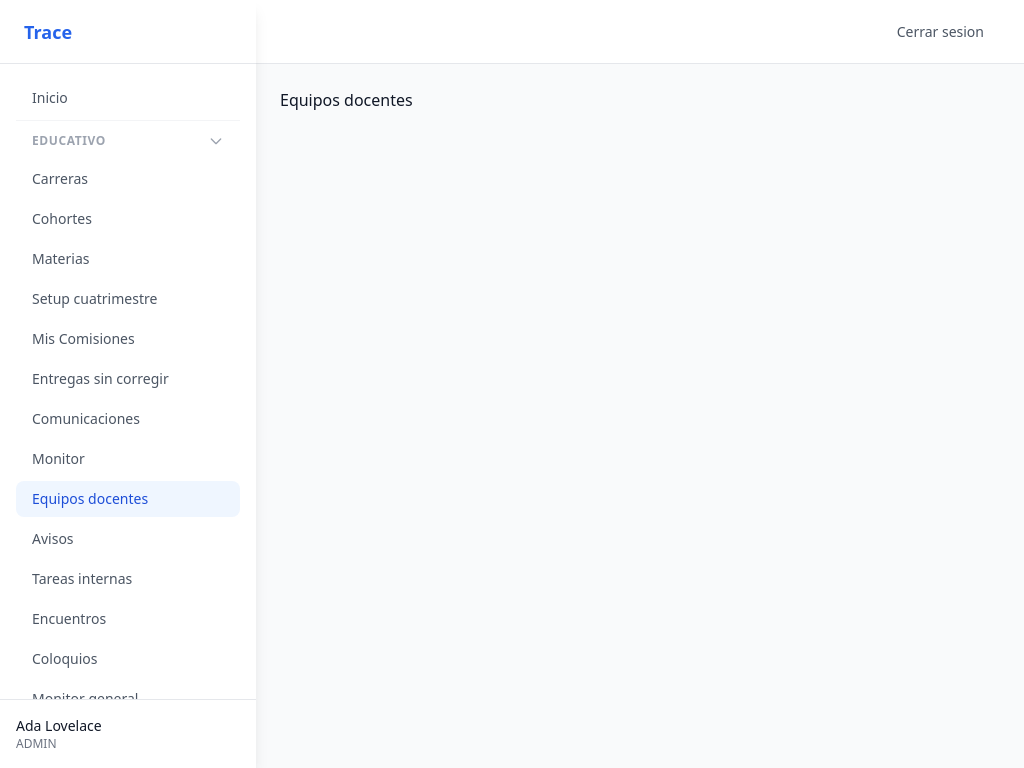
Test: SidebarPermissions › collapses one category without hiding the others
The image size is (1024, 768).
Expected: the link "Equipos docentes" is shown, [16,481,240,517]
Click the button "Educativo". click: {"x": 128, "y": 138}
box: [16,120,240,157]
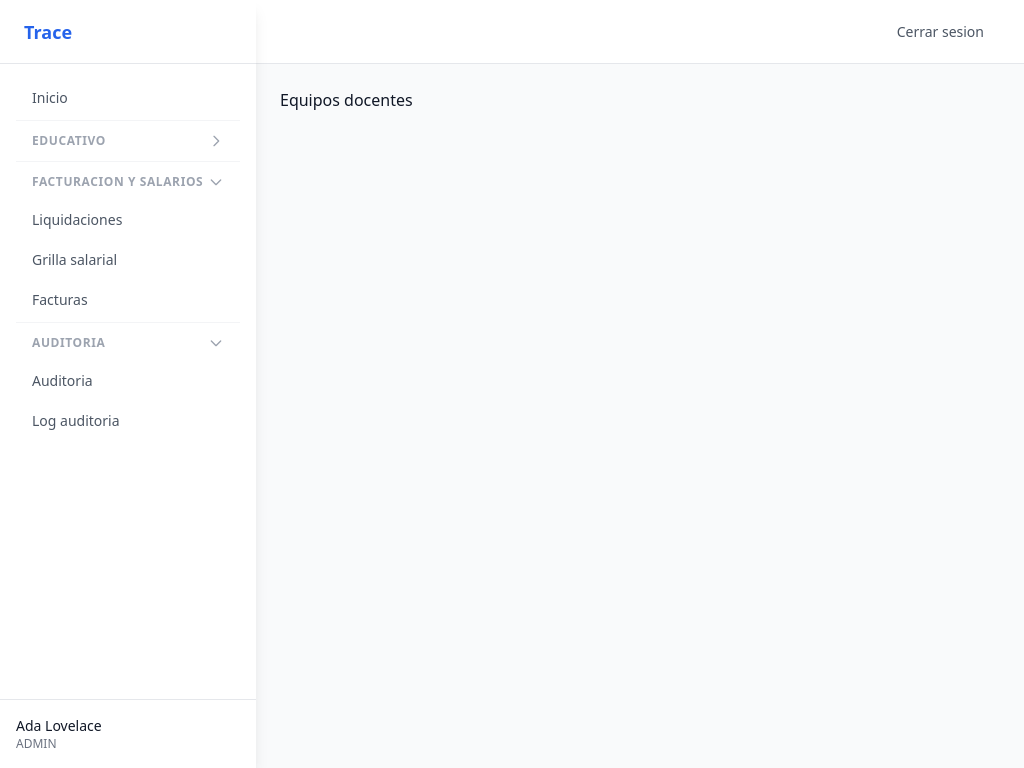
Now the button "Facturacion y salarios" is shown, box [16,161,240,198]
Now the link "Liquidaciones" is shown, box [32,210,122,229]
Click the button "Educativo". click: {"x": 128, "y": 138}
box: [16,120,240,157]
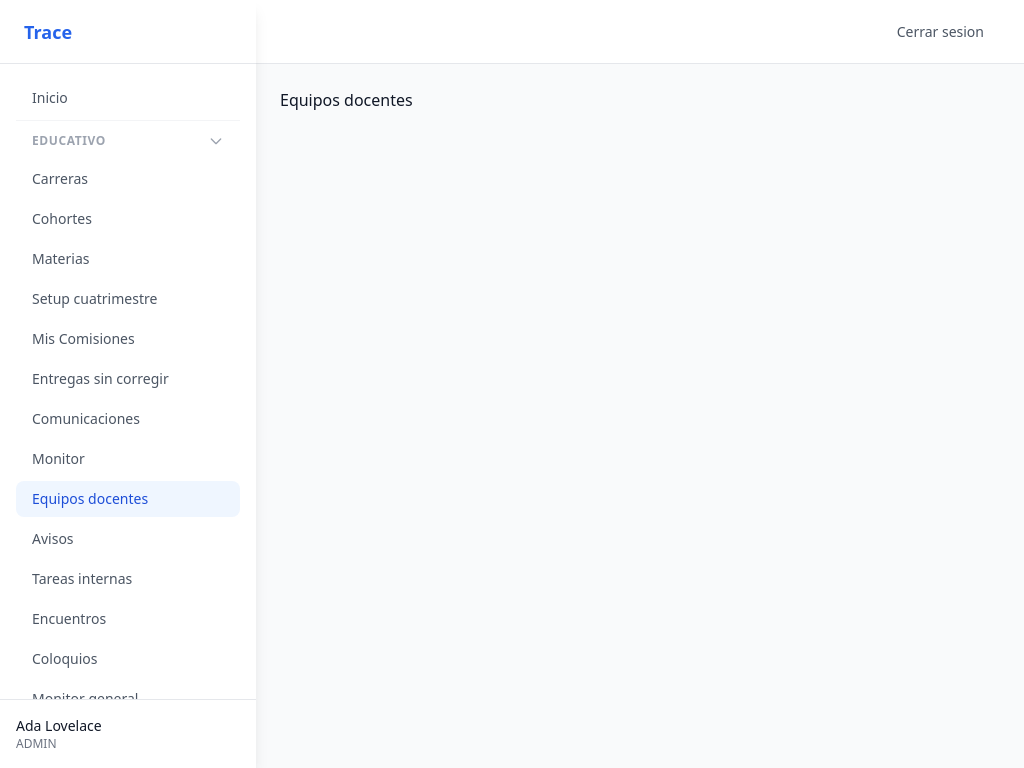
Now the link "Equipos docentes" is shown, box [16,481,240,517]
